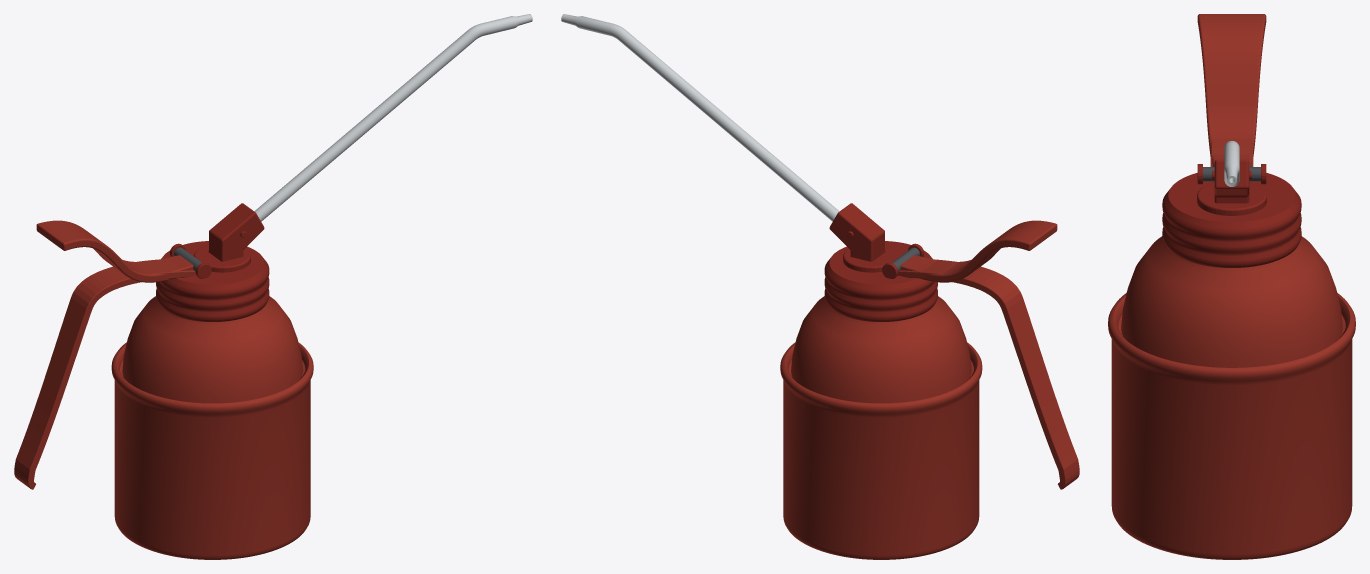
The picture shows the model from 3 angles, left to right: view 1: azimuth 30°, elevation 25°; view 2: azimuth 150°, elevation 25°; view 3: azimuth 270°, elevation 25°; orthographic projection. The views are drawn at different scales.
Parts seen in each view (by area): view 1: Reservoir_with_inset_shoulder_and_rolled_rim, Fixed_descending_open_handgrip, Closed_ribbed_pump_collar, Rigid_bent_spout_with_open_tip, Upturned_thumb_pump_lever, Angled_spout_socket, Spout_mount_round_foot; view 2: Reservoir_with_inset_shoulder_and_rolled_rim, Fixed_descending_open_handgrip, Closed_ribbed_pump_collar, Rigid_bent_spout_with_open_tip, Upturned_thumb_pump_lever, Angled_spout_socket, Spout_mount_round_foot; view 3: Reservoir_with_inset_shoulder_and_rolled_rim, Closed_ribbed_pump_collar, Upturned_thumb_pump_lever, Spout_mount_round_foot, Angled_spout_socket, Rigid_bent_spout_with_open_tip, Fixed_descending_open_handgrip.
Boxes of the visible parts, <box> form: Reservoir_with_inset_shoulder_and_rolled_rim: <box>111,296,313,559</box>; Fixed_descending_open_handgrip: <box>14,259,195,489</box>; Closed_ribbed_pump_collar: <box>156,241,269,321</box>; Rigid_bent_spout_with_open_tip: <box>254,14,532,221</box>; Upturned_thumb_pump_lever: <box>36,220,193,282</box>; Angled_spout_socket: <box>208,203,264,261</box>; Spout_mount_round_foot: <box>194,245,250,272</box>; Reservoir_with_inset_shoulder_and_rolled_rim: <box>780,296,982,559</box>; Fixed_descending_open_handgrip: <box>898,259,1079,489</box>; Closed_ribbed_pump_collar: <box>824,241,937,321</box>; Rigid_bent_spout_with_open_tip: <box>561,14,839,221</box>; Upturned_thumb_pump_lever: <box>900,220,1057,282</box>; Angled_spout_socket: <box>829,203,885,261</box>; Spout_mount_round_foot: <box>843,245,899,272</box>; Reservoir_with_inset_shoulder_and_rolled_rim: <box>1108,236,1355,559</box>; Closed_ribbed_pump_collar: <box>1162,173,1301,267</box>; Upturned_thumb_pump_lever: <box>1197,14,1266,166</box>; Spout_mount_round_foot: <box>1197,182,1266,215</box>; Angled_spout_socket: <box>1214,159,1249,203</box>; Rigid_bent_spout_with_open_tip: <box>1224,141,1239,186</box>; Fixed_descending_open_handgrip: <box>1210,139,1253,166</box>.
Size of the model in its own units: 0.2099 by 0.1696 by 0.072.
